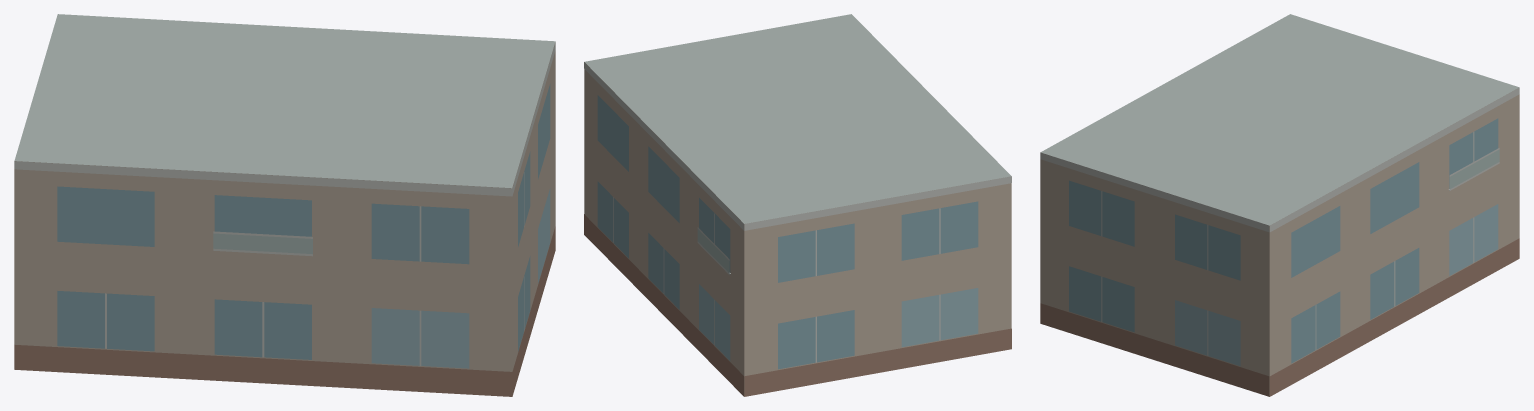
The model's file is survey-upis-32809379.glb.
3 renders of one model, left to right at view 1: azimuth 30°, elevation 25°; view 2: azimuth 150°, elevation 25°; view 3: azimuth 270°, elevation 25°, orthographic. The views are drawn at different scales.
Parts seen in each view (by area): view 1: survey-upis-32809379.tmp; view 2: survey-upis-32809379.tmp; view 3: survey-upis-32809379.tmp.
Boxes of the visible parts, bbox=[...] form: survey-upis-32809379.tmp: bbox=[14, 14, 555, 396]; survey-upis-32809379.tmp: bbox=[584, 14, 1011, 396]; survey-upis-32809379.tmp: bbox=[1040, 14, 1519, 396].
Size of the model in its own units: 16.18 by 6.1 by 15.48.
